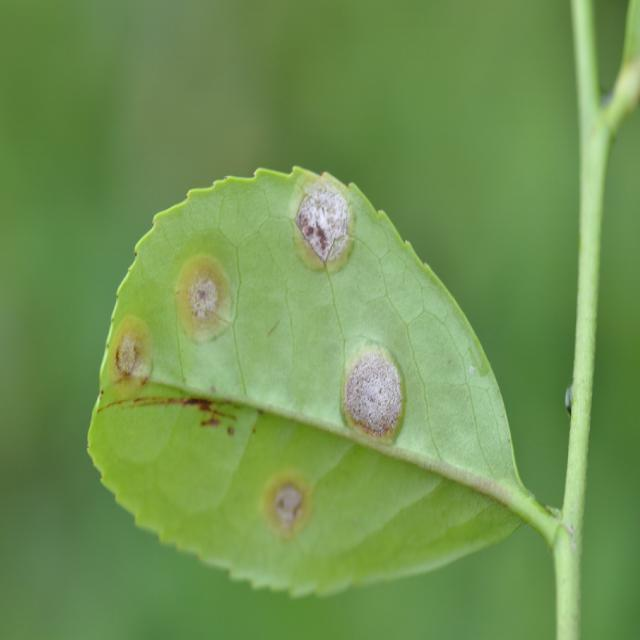Tea cake: (174, 251, 253, 327), (344, 340, 398, 440), (292, 177, 349, 257), (100, 317, 156, 395), (263, 467, 308, 533)
